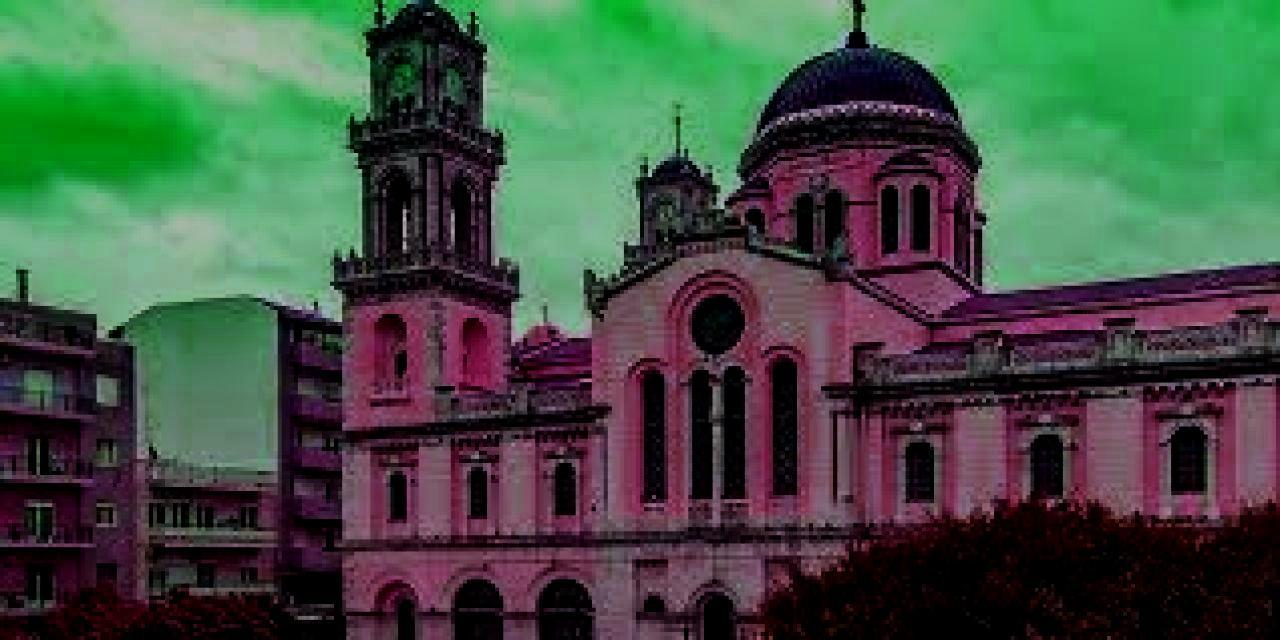Agios Minas: (337, 1, 1280, 640)
